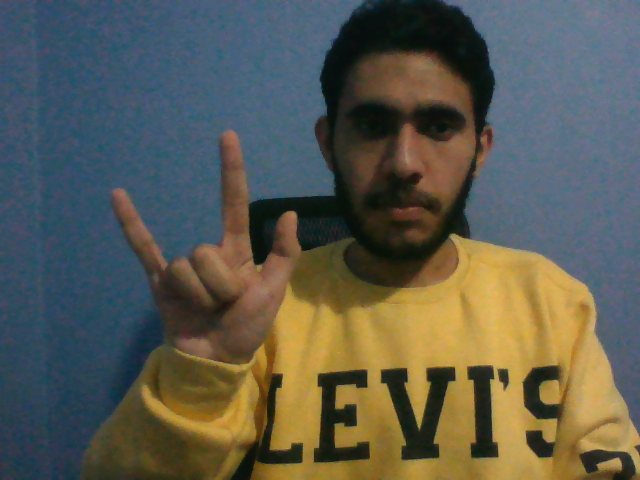iloveyou: (108, 127, 306, 375)
